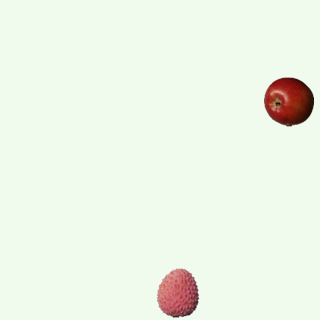Apple Braeburn: (263, 76, 313, 126)
Lychee: (152, 267, 202, 317)
